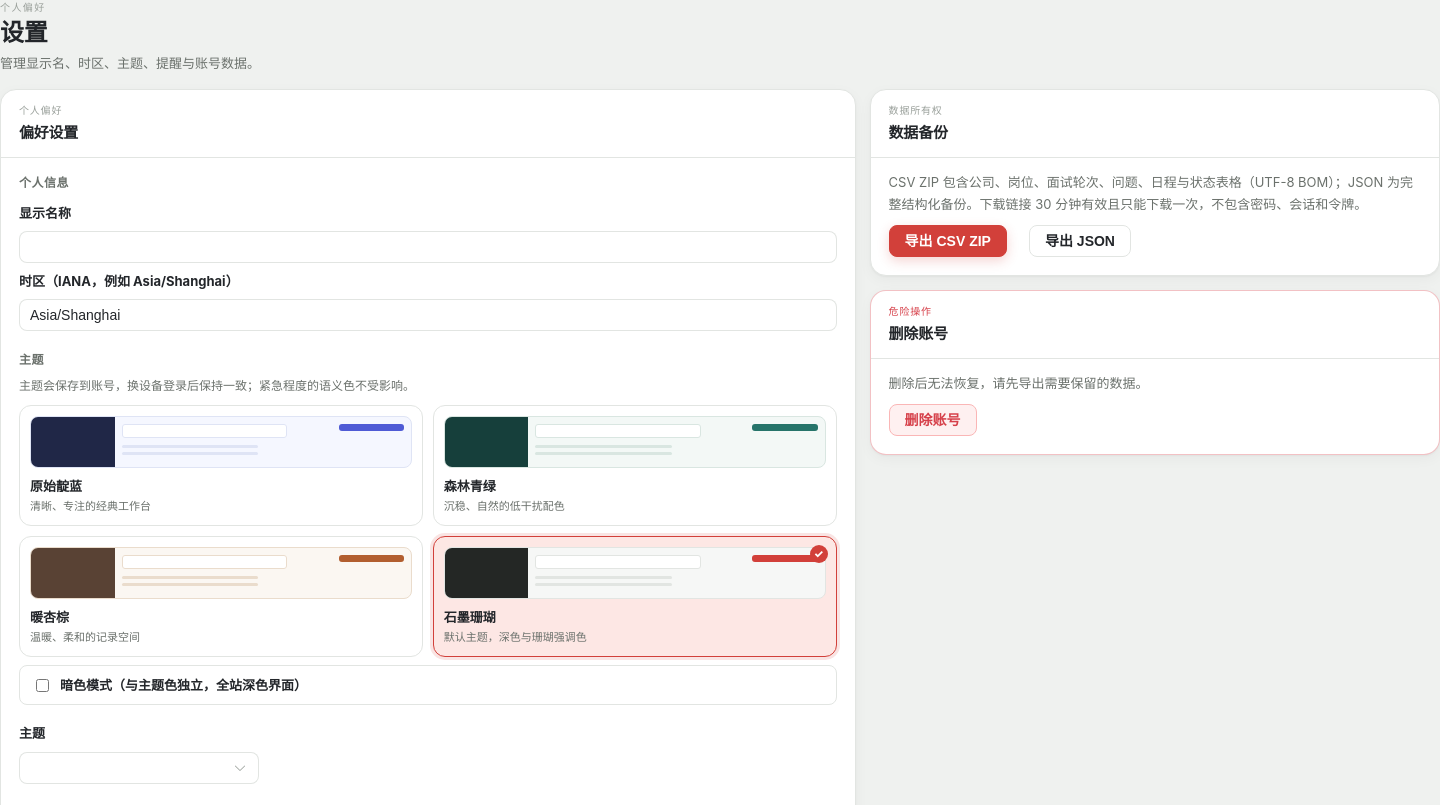
Scenario: SettingsView › requires password re-entry before exposing destructive account deletion
The image size is (1440, 805).
Click the button "删除账号" at (933, 420), box [889,404,977,436]
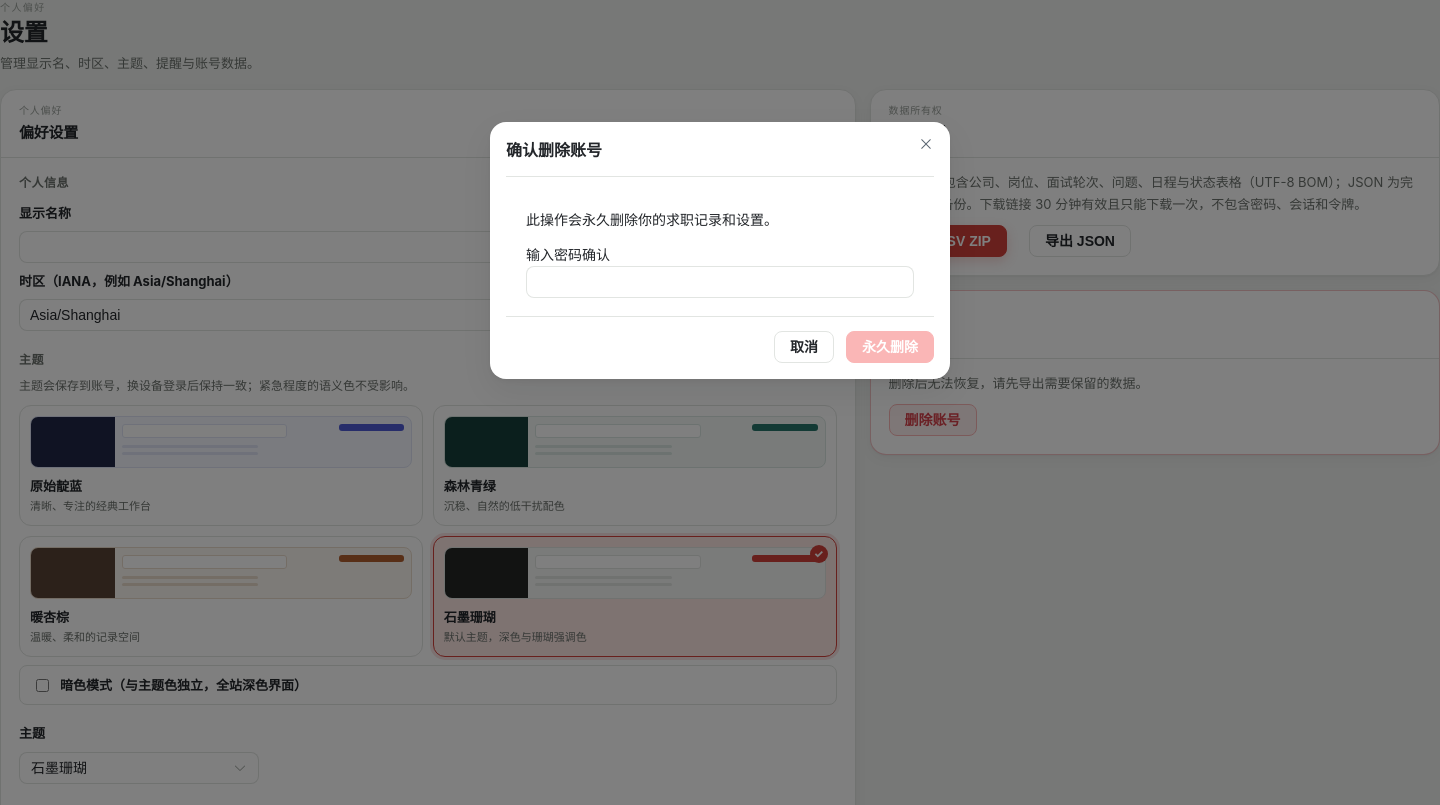
Check: the button "永久删除" is disabled, box [846,331,934,363]
Type "Password123" into the password field named "deletePassword" at (720, 282), box [537,267,903,297]
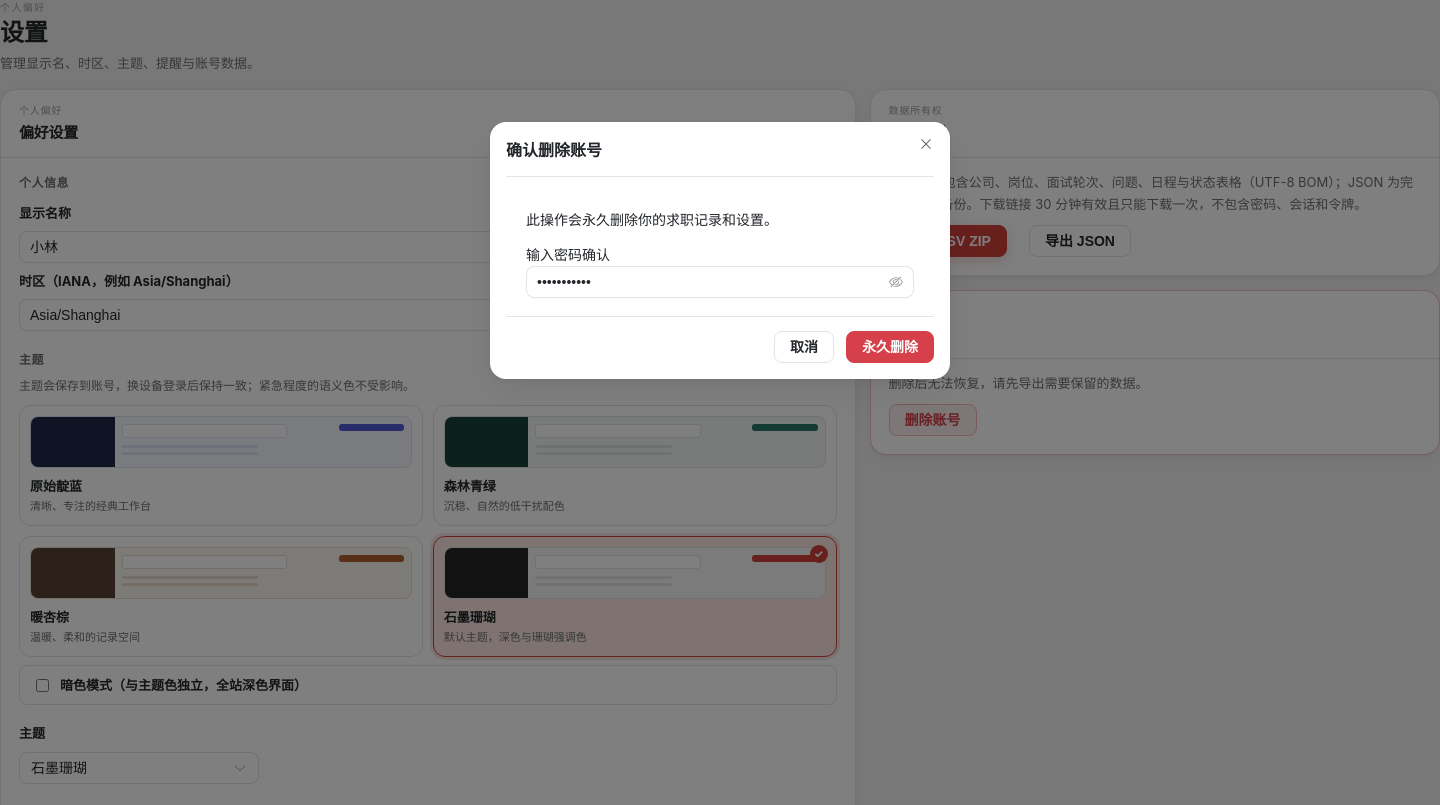
Check: the button "永久删除" is enabled, box [846,331,934,363]
